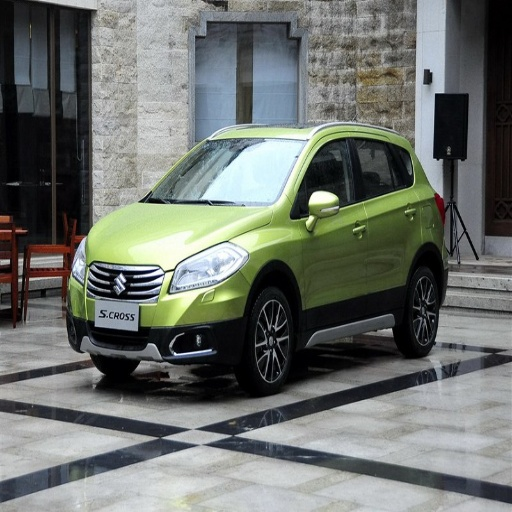front_bumper: (69, 258, 251, 367)
front_glass: (140, 139, 304, 204)
front_left_door: (295, 132, 367, 328)
